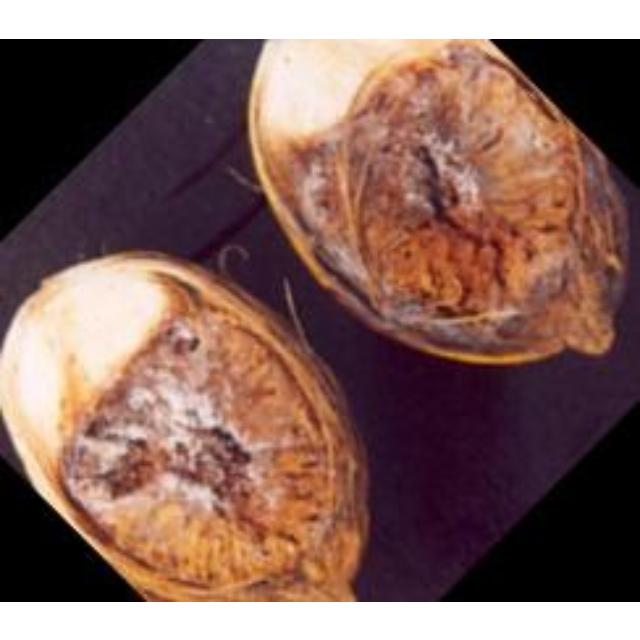damaged: (0, 248, 372, 599), (247, 38, 630, 368)
